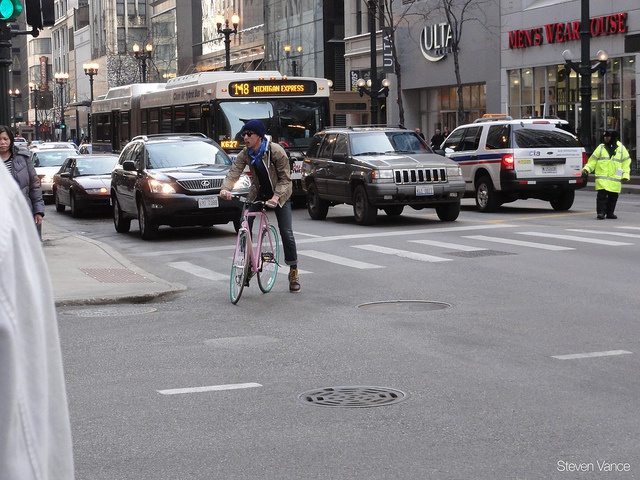non-vehicle: (231, 199, 279, 306), (31, 154, 37, 165)
